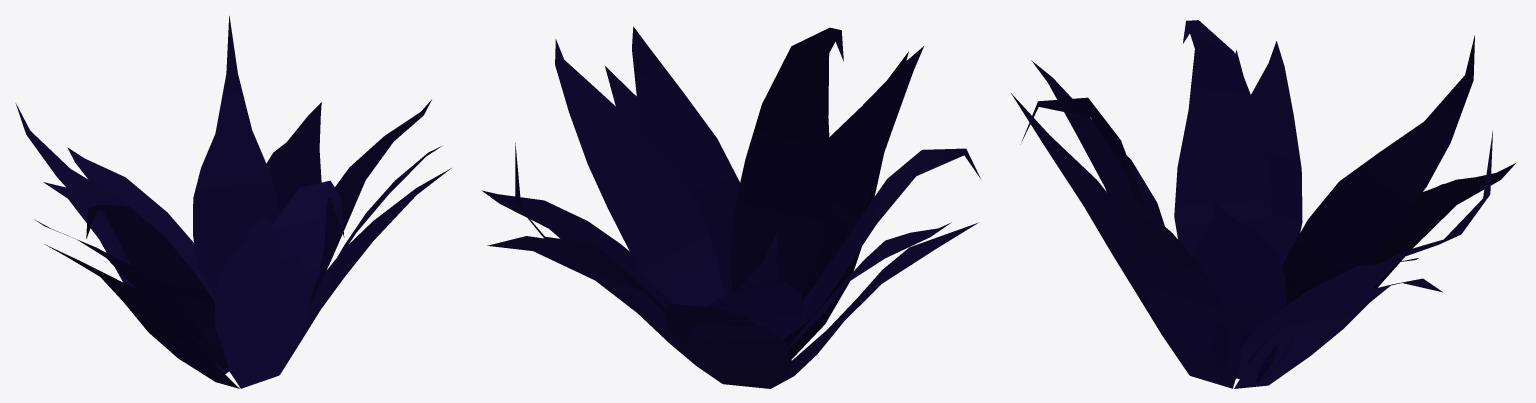
3 views of the same model, side by side, from view 1: azimuth 30°, elevation 25°; view 2: azimuth 150°, elevation 25°; view 3: azimuth 270°, elevation 25° (orthographic). The views are drawn at different scales.
Parts seen in each view (by area): view 1: brush_Petal_g0_b0; view 2: brush_Petal_g0_b0; view 3: brush_Petal_g0_b0.
Part boxes in pixels (box(x1,y1,x2,y2)): brush_Petal_g0_b0: box(15, 16, 451, 388); brush_Petal_g0_b0: box(482, 26, 980, 388); brush_Petal_g0_b0: box(1011, 20, 1515, 388).
Bounding box in the file's own units: 3.85 × 2.57 × 3.81.
